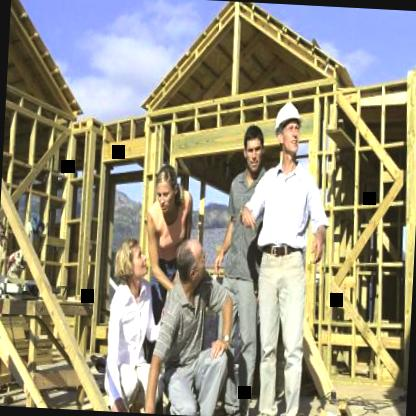helmet: (272, 100, 308, 158)
